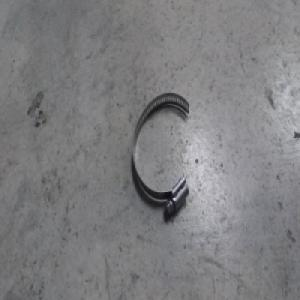AdjustableClamp: (131, 90, 195, 211)
